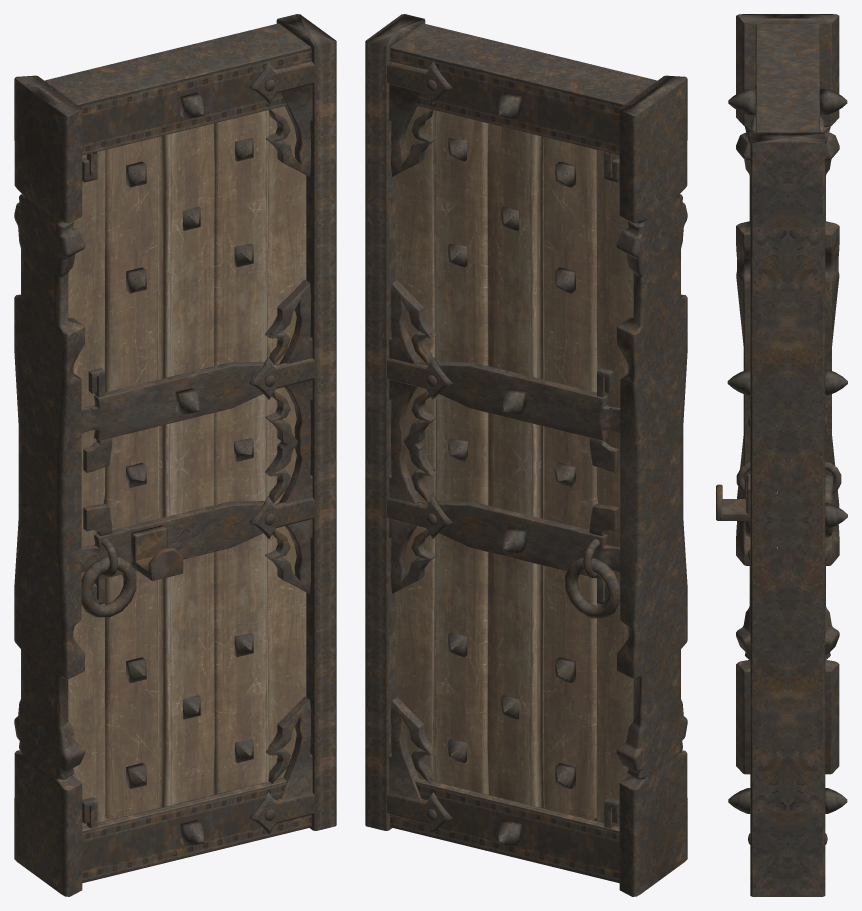
3 renders of one model, left to right at view 1: azimuth 30°, elevation 25°; view 2: azimuth 150°, elevation 25°; view 3: azimuth 270°, elevation 25°, orthographic. The views are drawn at different scales.
Visible parts, largest first — view 1: SM_DR_Door_L_01_LOD0; view 2: SM_DR_Door_L_01_LOD0; view 3: SM_DR_Door_L_01_LOD0.
Boxes of the visible parts, <box> form: SM_DR_Door_L_01_LOD0: <box>14,14,336,896</box>; SM_DR_Door_L_01_LOD0: <box>365,14,687,896</box>; SM_DR_Door_L_01_LOD0: <box>716,14,847,896</box>.
Bounding box in the file's own units: 1.51 × 4.04 × 0.6407.
Materials: 3 (3 with a texture image).
